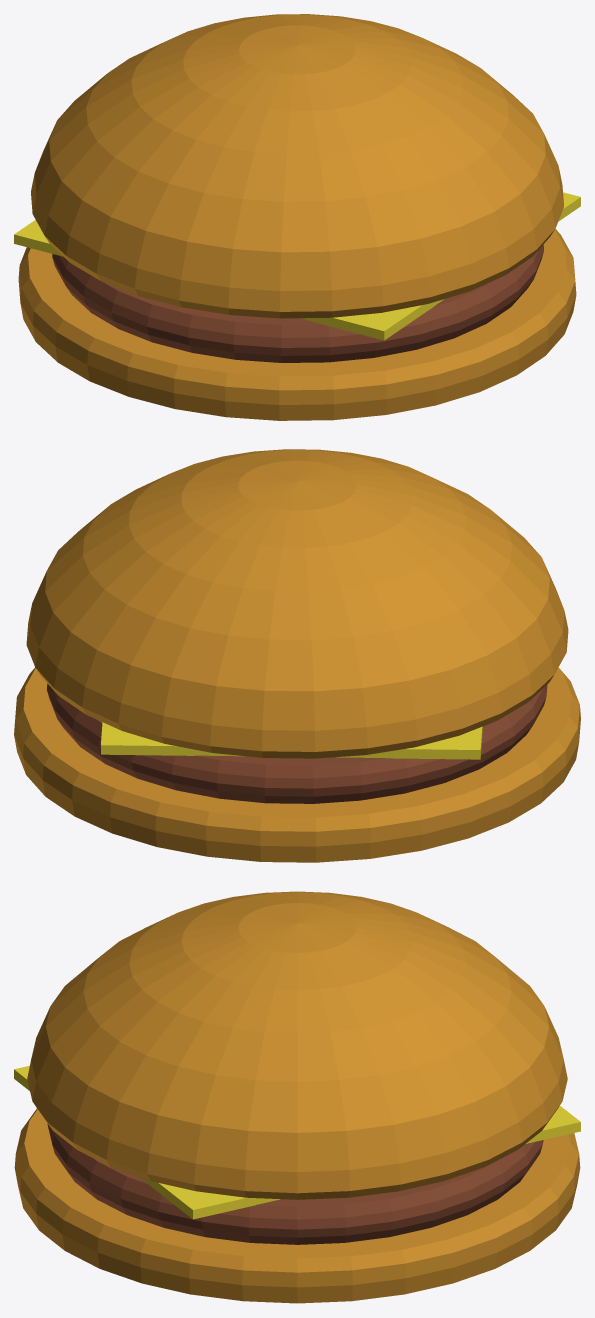
Rendered from burger.fbx.
The picture shows the model from 3 angles, top to bottom: view 1: azimuth 30°, elevation 25°; view 2: azimuth 150°, elevation 25°; view 3: azimuth 270°, elevation 25°; orthographic projection.
Parts seen in each view (by area): view 1: Sphere, Cylinder, Cube.001; view 2: Sphere, Cylinder, Cube.001; view 3: Sphere, Cylinder, Cube.001.
Boxes of the visible parts, box(x1,y1,x2,y2) form: Sphere: box(18, 14, 576, 420); Cylinder: box(52, 244, 543, 362); Cube.001: box(14, 192, 580, 340); Sphere: box(14, 449, 580, 862); Cylinder: box(47, 683, 547, 803); Cube.001: box(101, 722, 482, 759); Sphere: box(14, 891, 580, 1303); Cylinder: box(47, 1124, 543, 1244); Cube.001: box(14, 1065, 580, 1219).
Bounding box in the file's own units: 10.02 × 5.43 × 10.05.
